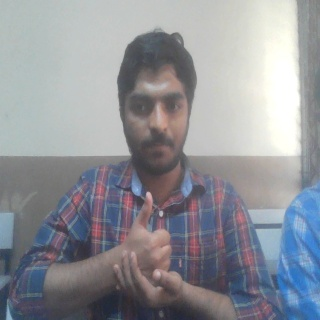Face: (115, 29, 198, 179)
Help: (109, 189, 191, 313)
